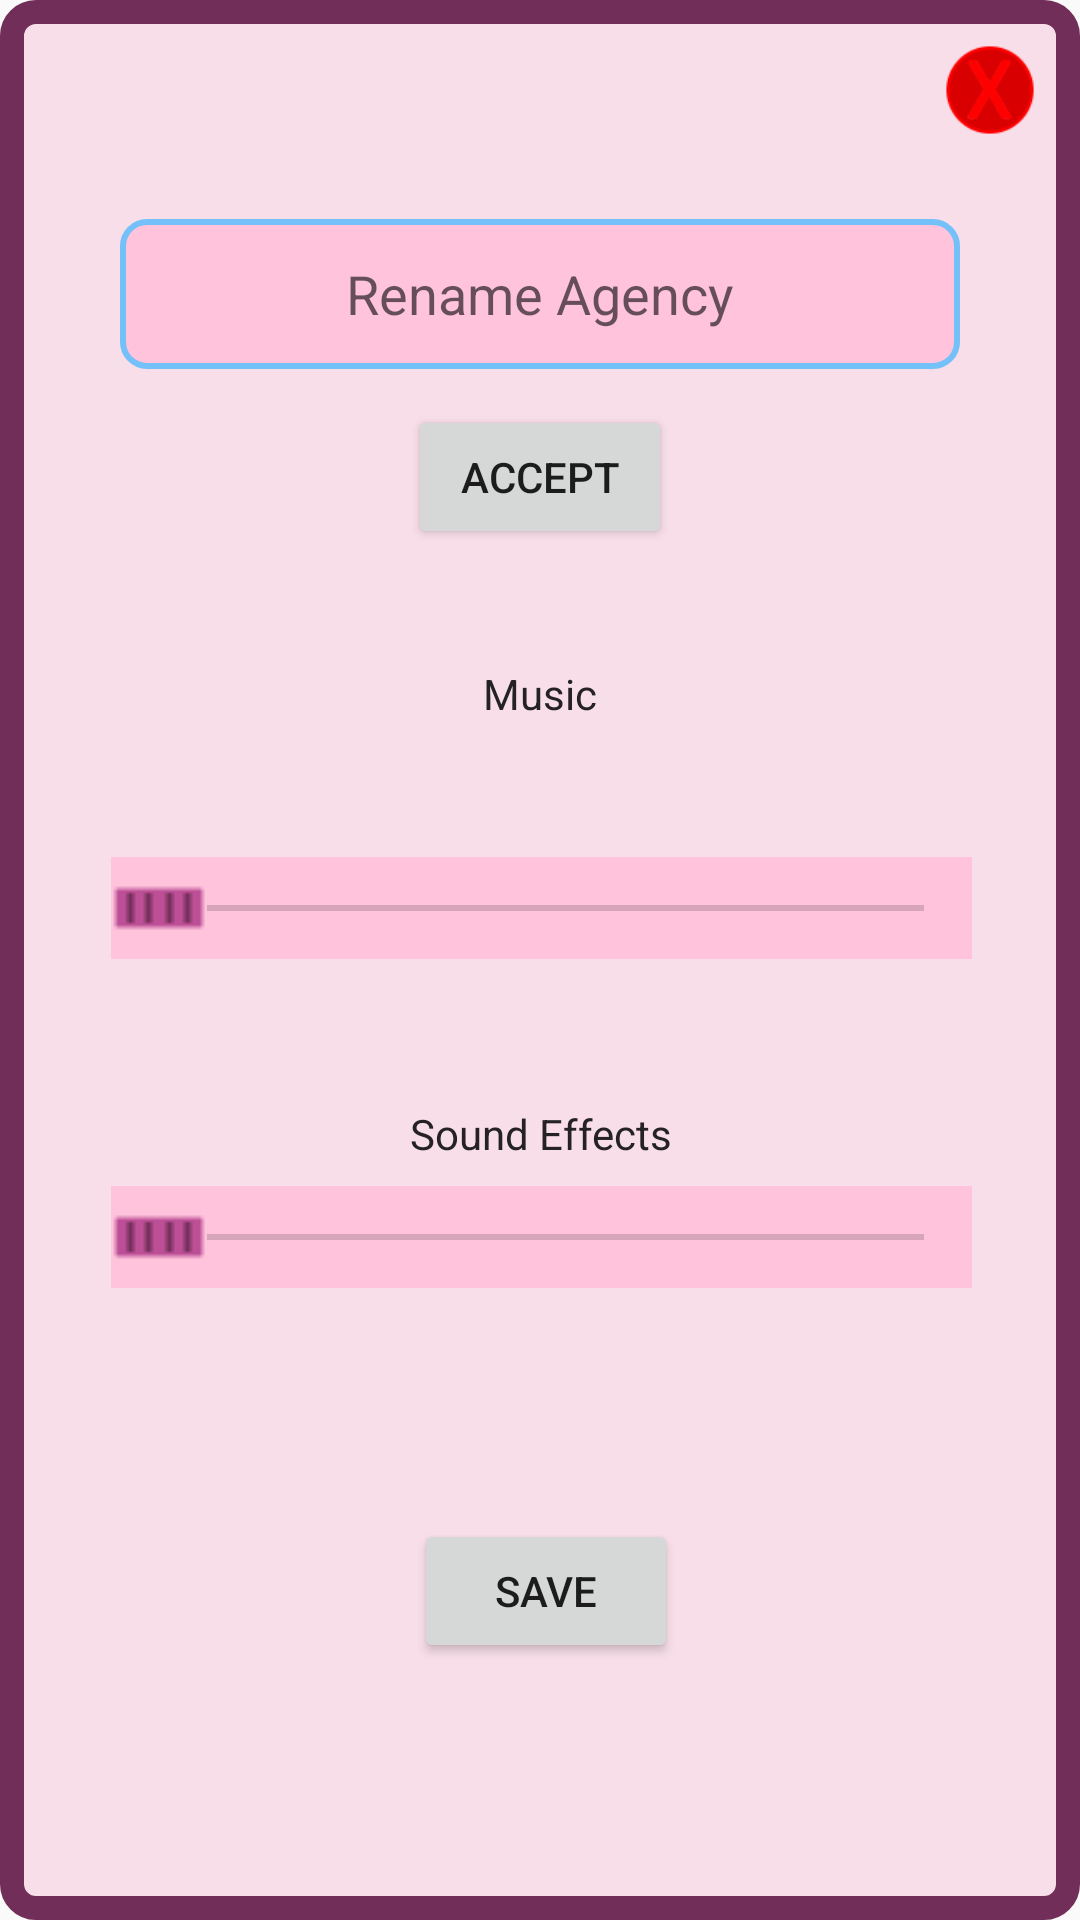

Locate icon controls on the screen. Image size 1080×1920, boxes as Rect(x1, y1, x2, y2).
xbutton: Rect(946, 46, 1034, 134)
